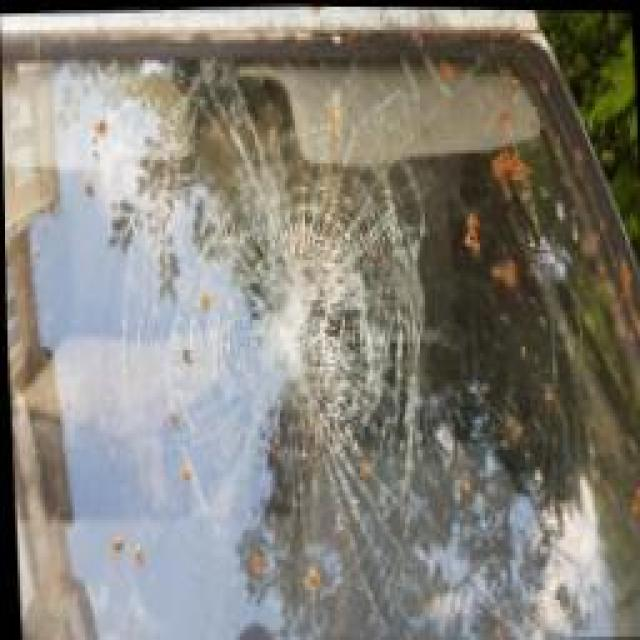Windshield: (0, 13, 640, 640)
